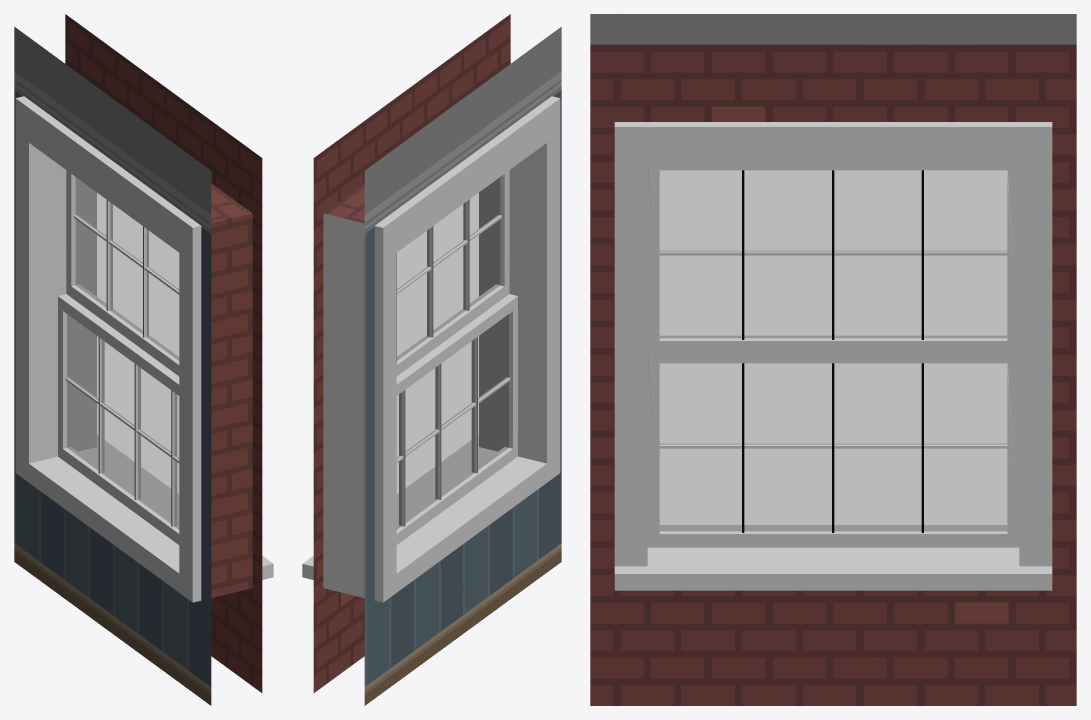
Rendered from SM_window_03_half.glb.
3 views of the same model, side by side, from view 1: azimuth 30°, elevation 25°; view 2: azimuth 150°, elevation 25°; view 3: azimuth 270°, elevation 25° (orthographic). The views are drawn at different scales.
Visible parts, largest first — view 1: SM_window_03_half; view 2: SM_window_03_half; view 3: SM_window_03_half.
Boxes of the visible parts, left/top/right/bottom form: SM_window_03_half: left=14, top=14, right=273, bottom=705; SM_window_03_half: left=302, top=14, right=561, bottom=705; SM_window_03_half: left=590, top=14, right=1076, bottom=705.
Bounding box in the file's own units: 0.4744 × 3 × 2.
4 materials, 3 textured.
